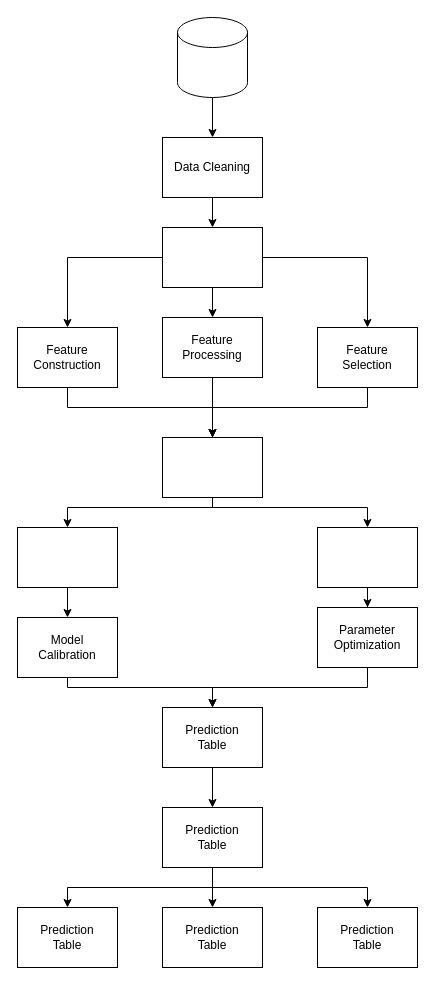
This 435x985 diagram has some shape labels left out. Here are the shapes that lost their labels. From the top down, the centre of each, then its label:
the point at 212,57: Raw Data
the point at 212,257: Exploratory Data Analysis
the point at 212,467: Model Selection
the point at 67,557: Gradient Boost Decision Tree Classifier
the point at 367,557: Logistic Regression
